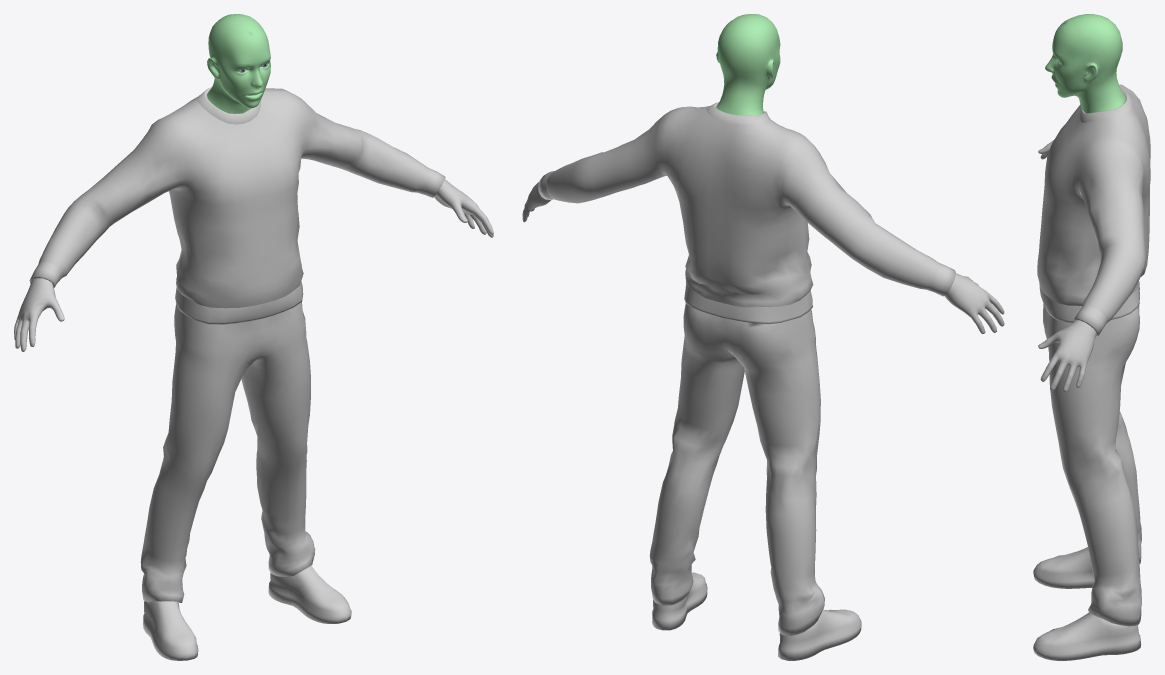
File: MESH_c_m_sivil01_static.fbx
3 renders of one model, left to right at view 1: azimuth 30°, elevation 25°; view 2: azimuth 150°, elevation 25°; view 3: azimuth 270°, elevation 25°, orthographic.
Parts seen in each view (by area): view 1: Outfit_LOW.001, Shoes_LOW.002, M_Head_low.001, M_Hands_low.001; view 2: Outfit_LOW.001, M_Head_low.001, Shoes_LOW.002, M_Hands_low.001; view 3: Outfit_LOW.001, M_Head_low.001, Shoes_LOW.002, M_Hands_low.001.
Part boxes in pixels (box(x1,y1,x2,y2)): Outfit_LOW.001: box(29, 87, 445, 602); Shoes_LOW.002: box(143, 565, 351, 660); M_Head_low.001: box(207, 14, 270, 113); M_Hands_low.001: box(14, 179, 493, 351); Outfit_LOW.001: box(538, 102, 955, 635); M_Head_low.001: box(716, 14, 780, 115); Shoes_LOW.002: box(652, 572, 861, 660); M_Hands_low.001: box(522, 182, 1004, 333); Outfit_LOW.001: box(1037, 84, 1150, 626); M_Head_low.001: box(1045, 14, 1125, 113); Shoes_LOW.002: box(1033, 547, 1141, 660); M_Hands_low.001: box(1038, 139, 1096, 392).
Bounding box in the file's own units: 142 × 175 × 31.02.
